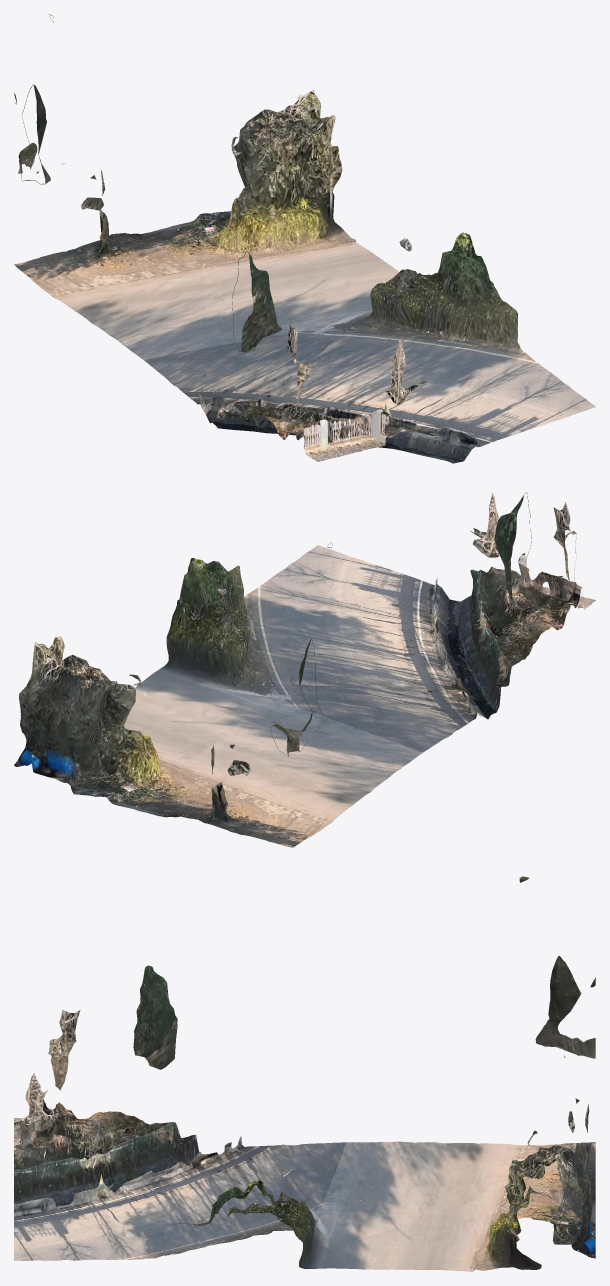
File: BlockBBBB_L20_53.glb
The picture shows the model from 3 angles, top to bottom: view 1: azimuth 30°, elevation 25°; view 2: azimuth 150°, elevation 25°; view 3: azimuth 270°, elevation 25°; orthographic projection. The views are drawn at different scales.
Visible parts, largest first — view 1: rtc; view 2: rtc; view 3: rtc.
Part boxes in pixels (x1,y1,x2,y2): rtc: (14,14,595,463); rtc: (14,492,595,847); rtc: (14,876,595,1271).
Bounding box in the file's own units: 19.18 × 19.28 × 36.21.
3 materials, 3 textured.
